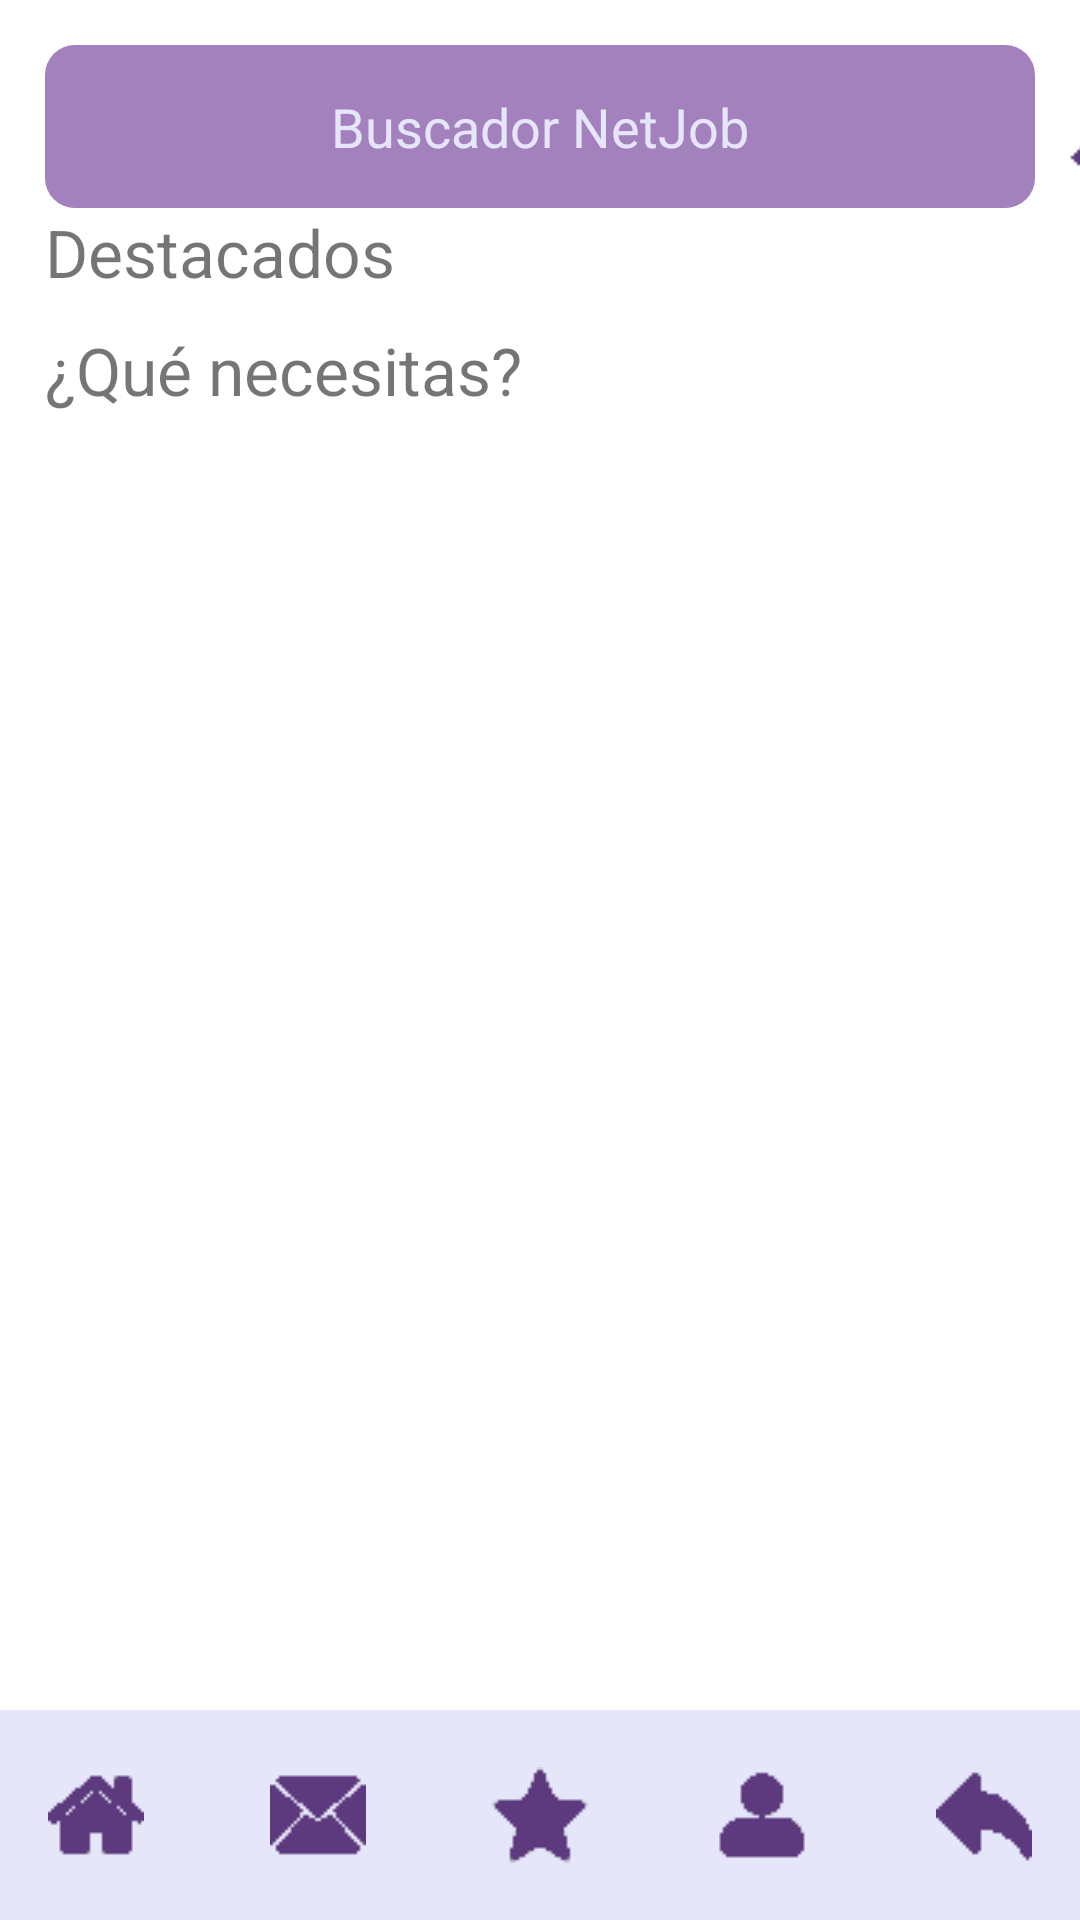

Where icons sit on this 1080x1920 app screen, as (x1, y1, x2, y2):
back: (936, 1772, 1032, 1861)
buzon: (270, 1775, 366, 1855)
favorito: (492, 1769, 588, 1863)
inicio: (48, 1775, 144, 1855)
perfil: (719, 1772, 805, 1858)
